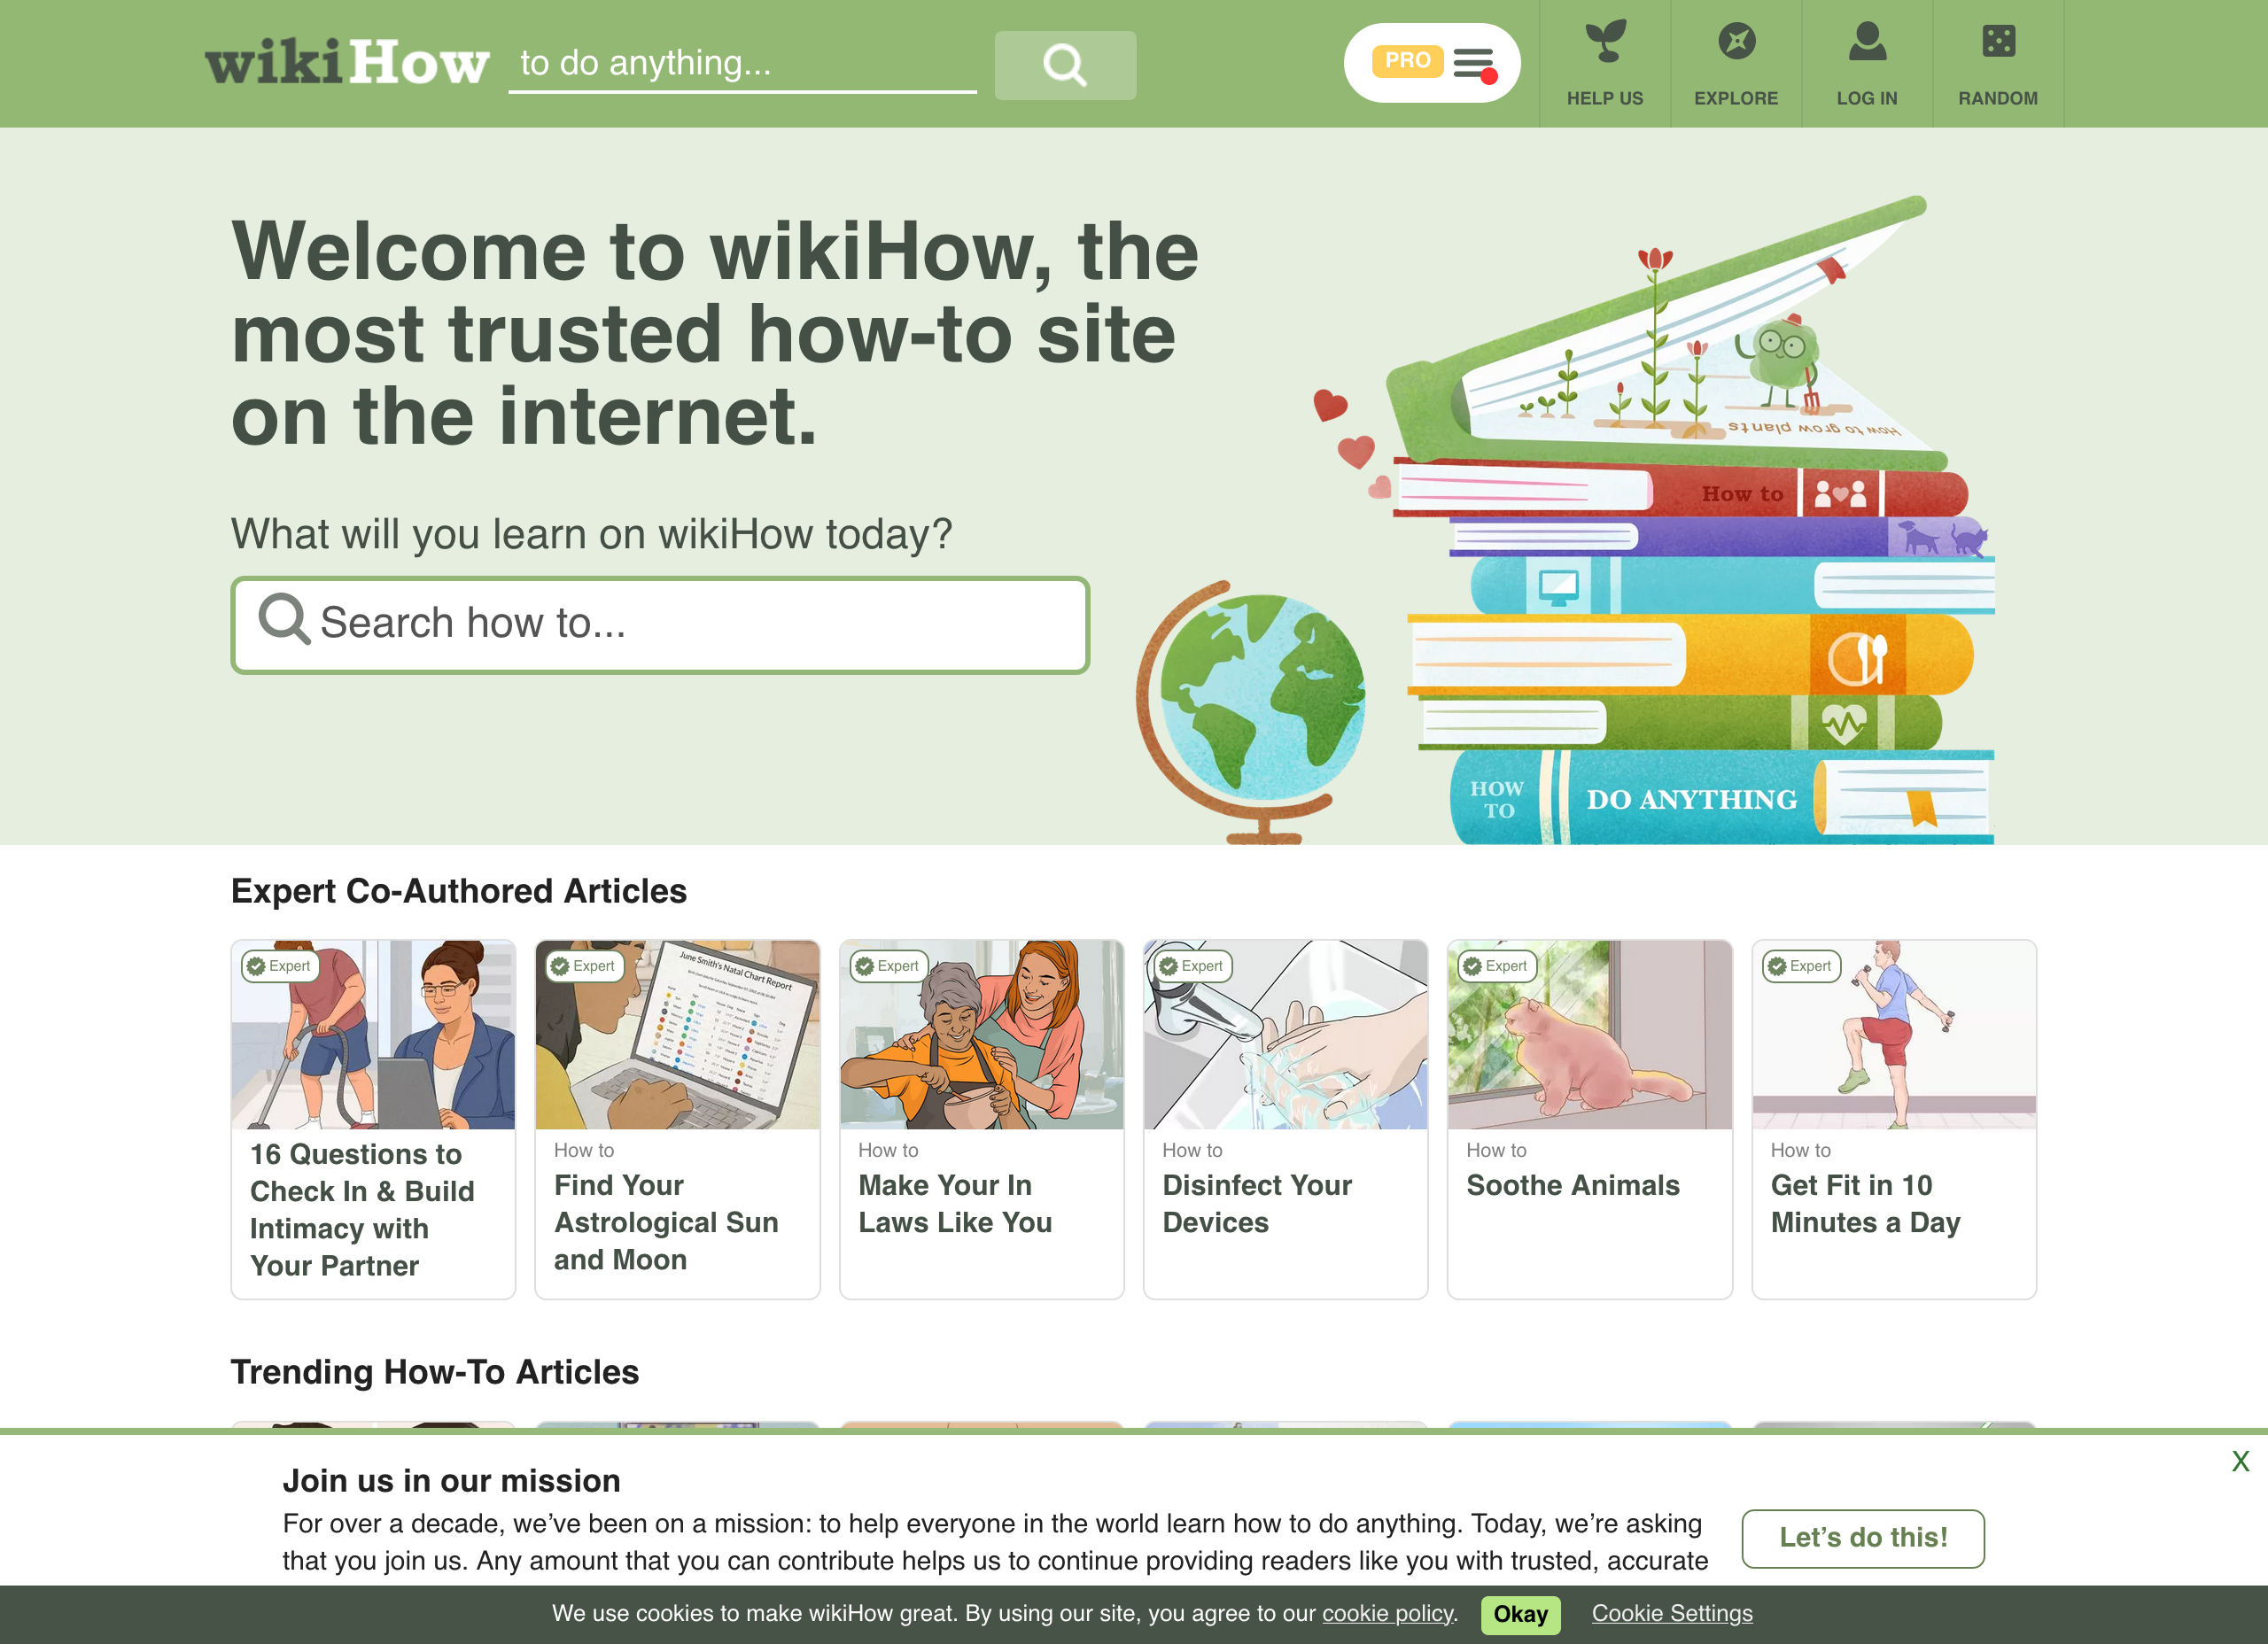Login: (1819, 70, 1916, 114)
